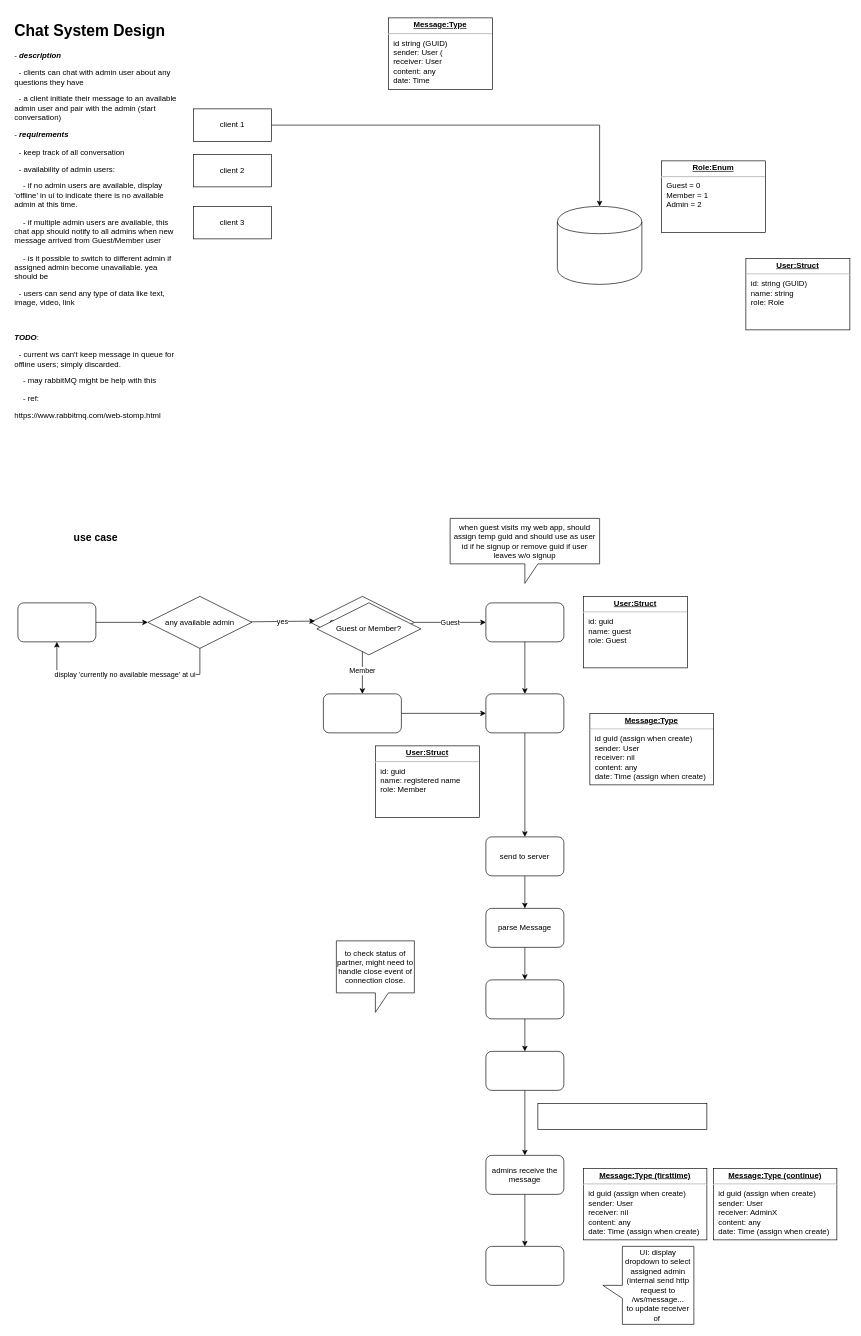
The diagram is 861 pixels wide and 1336 high, and some of its shapes have lost their labels. The centre of each missing label's shape, as x and y in pixels:
boradcast the Message to all available admins: the point at 524,1070
construct Message object: the point at 524,713
find all admin connection from pool: the point at 622,1116
gather temp id from auth: the point at 524,622
gather the user info from auth data: the point at 362,713
Guest/Member sends message: the point at 56,622
one of admin assign himself to take care of the message: the point at 524,1265
put connection into pool: the point at 524,999
ws server: the point at 599,245
